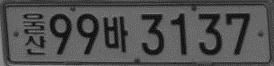1: (169, 13, 193, 55)
3: (197, 13, 223, 55), (140, 13, 164, 55)
7: (225, 12, 250, 56)
9: (48, 12, 72, 55), (76, 12, 99, 55)
바: (103, 16, 128, 53)
울산_V: (22, 12, 47, 56)
